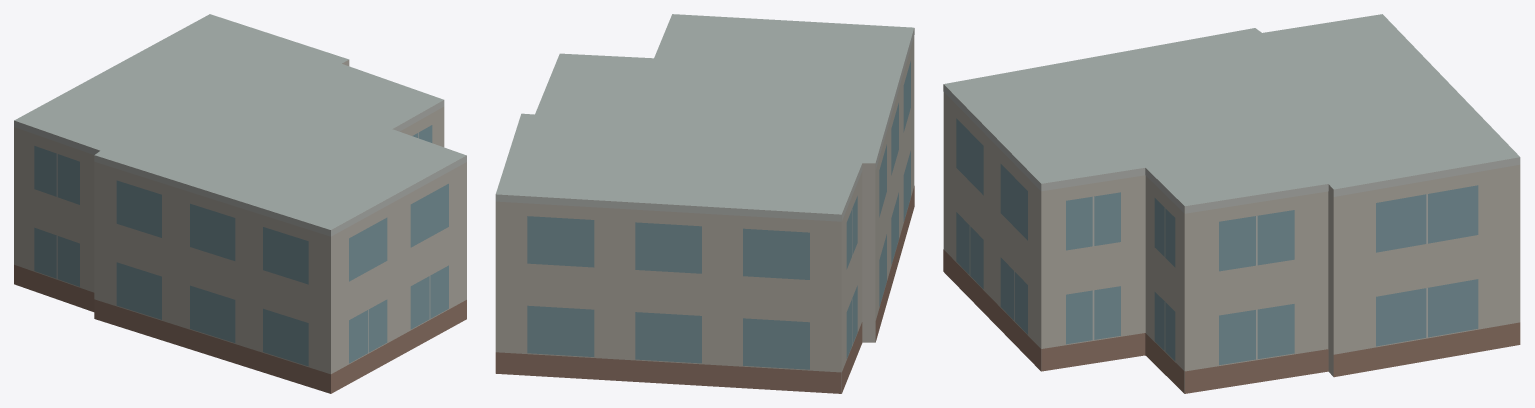
The model's file is survey-upis-32852106.glb.
The picture shows the model from 3 angles, left to right: view 1: azimuth 30°, elevation 25°; view 2: azimuth 150°, elevation 25°; view 3: azimuth 270°, elevation 25°; orthographic projection. The views are drawn at different scales.
Parts seen in each view (by area): view 1: survey-upis-32852106.tmp; view 2: survey-upis-32852106.tmp; view 3: survey-upis-32852106.tmp.
Part boxes in pixels (box(x1,y1,x2,y2)): survey-upis-32852106.tmp: box(14, 14, 466, 393); survey-upis-32852106.tmp: box(495, 14, 914, 393); survey-upis-32852106.tmp: box(943, 14, 1520, 393).
Size of the model in its own units: 13.42 by 6.1 by 17.01.
